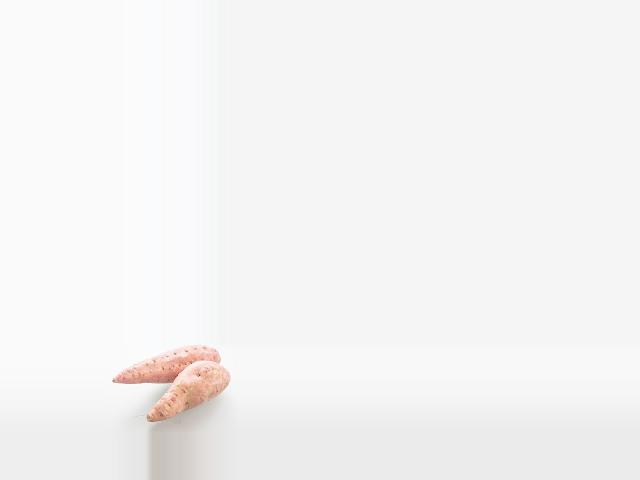sweet_potato: (119, 346, 220, 384)
